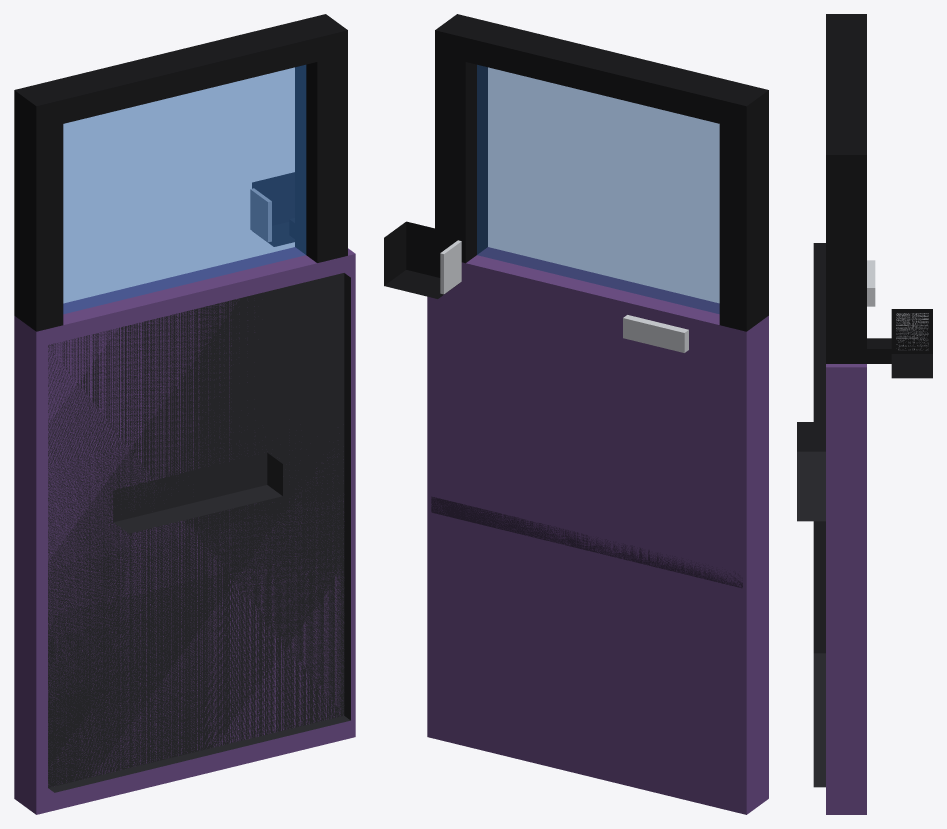
The model's file is door_front_r.obj.
3 views of the same model, side by side, from view 1: azimuth 30°, elevation 25°; view 2: azimuth 150°, elevation 25°; view 3: azimuth 270°, elevation 25° (orthographic). The views are drawn at different scales.
Parts seen in each view (by area): view 1: Door_Front_R; view 2: Door_Front_R; view 3: Door_Front_R.
Part boxes in pixels (bbox=[...]): Door_Front_R: bbox=[14, 14, 355, 814]; Door_Front_R: bbox=[384, 14, 768, 814]; Door_Front_R: bbox=[797, 14, 932, 814].
Size of the model in its own units: 0.85 by 1.76 by 0.33.
